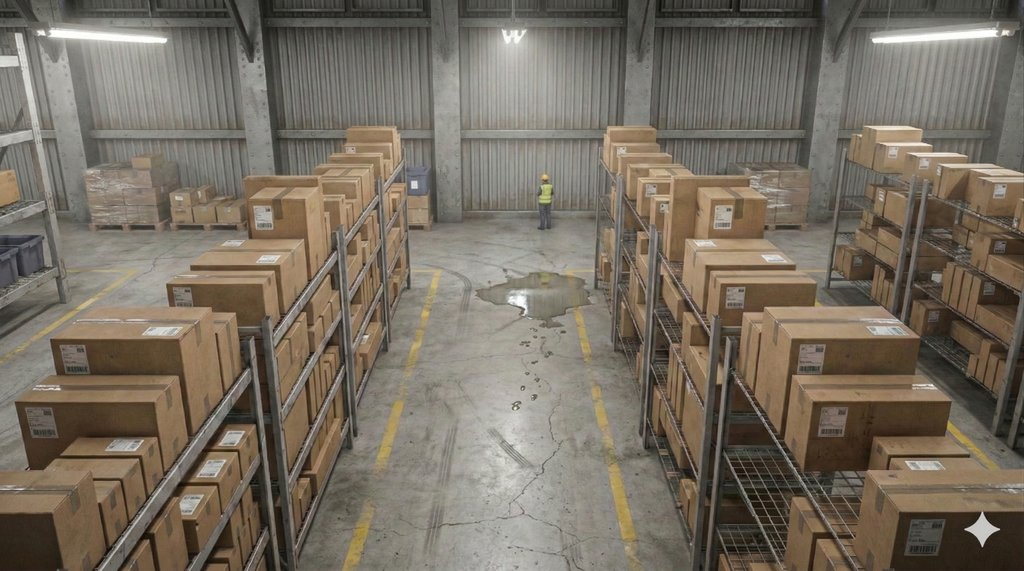person: (530, 152, 564, 236)
safety_vest: (538, 180, 552, 209)
spill: (476, 256, 592, 358)
